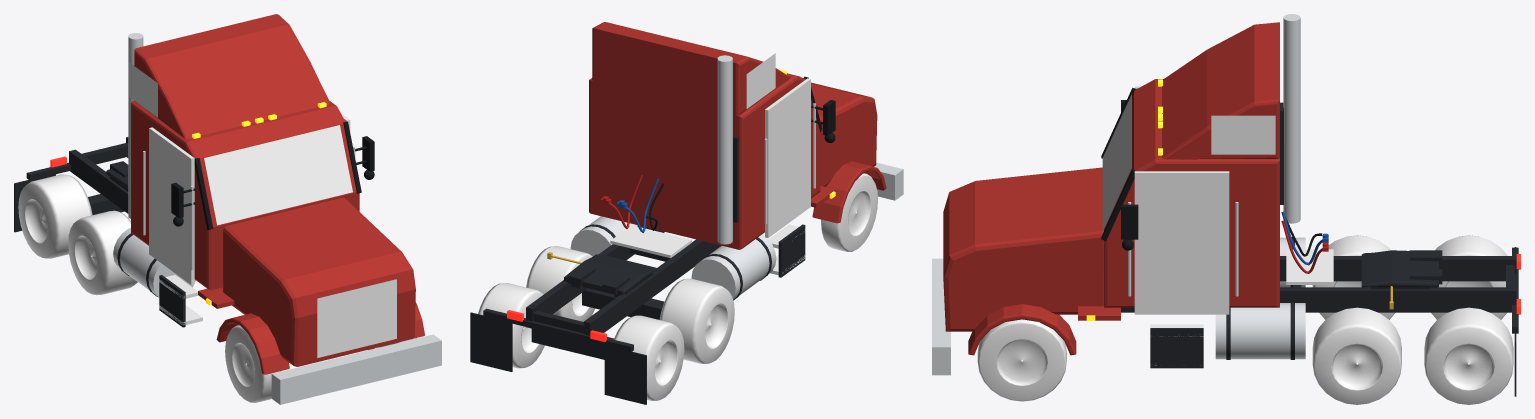
File: fleet--semiTractor.glb
The picture shows the model from 3 angles, left to right: view 1: azimuth 30°, elevation 25°; view 2: azimuth 150°, elevation 25°; view 3: azimuth 270°, elevation 25°; orthographic projection. The views are drawn at different scales.
Visible parts, largest first — view 1: semiTractor:shell, hood, doorR, axle3, axle2, wheelFR, mirrorR, mirrorL, fifthWheel; view 2: semiTractor:shell, axle2, doorR, axle3, hood, wheelFR, fifthWheel, mirrorR; view 3: semiTractor:shell, hood, doorL, axle3, axle2, wheelFL, fifthWheel, mirrorL.
Boxes of the visible parts, box(x1,y1,x2,y2) form: semiTractor:shell: box(14, 14, 441, 404); hood: box(223, 197, 415, 366); doorR: box(149, 127, 194, 284); axle3: box(18, 174, 92, 258); axle2: box(68, 210, 137, 295); wheelFR: box(225, 325, 281, 402); mirrorR: box(171, 182, 195, 226); mirrorL: box(355, 136, 374, 179); fifthWheel: box(106, 161, 128, 191); semiTractor:shell: box(470, 22, 903, 404); axle2: box(526, 246, 734, 363); doorR: box(765, 78, 810, 237); axle3: box(478, 283, 684, 400); hood: box(811, 82, 877, 186); wheelFR: box(821, 173, 877, 251); fifthWheel: box(564, 254, 657, 297); mirrorR: box(811, 100, 835, 142); semiTractor:shell: box(932, 14, 1518, 396); hood: box(943, 167, 1103, 331); doorL: box(1134, 171, 1229, 314); axle3: box(1424, 235, 1513, 404); axle2: box(1312, 235, 1401, 404); wheelFL: box(977, 319, 1066, 401); fifthWheel: box(1361, 250, 1442, 289); mirrorL: box(1121, 204, 1138, 250).
Size of the model in its own units: 3.02 by 3.95 by 6.86.
